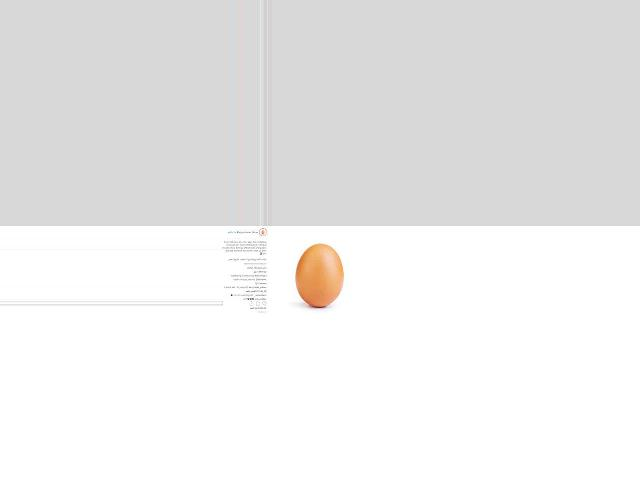egg: (295, 244, 343, 307)
